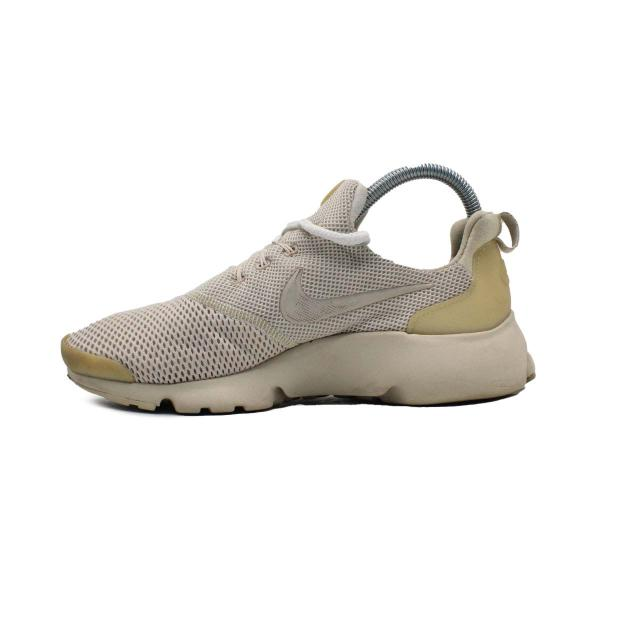heel: (450, 212, 518, 334)
midsole: (71, 313, 544, 409)
uppersole: (62, 180, 469, 382)
